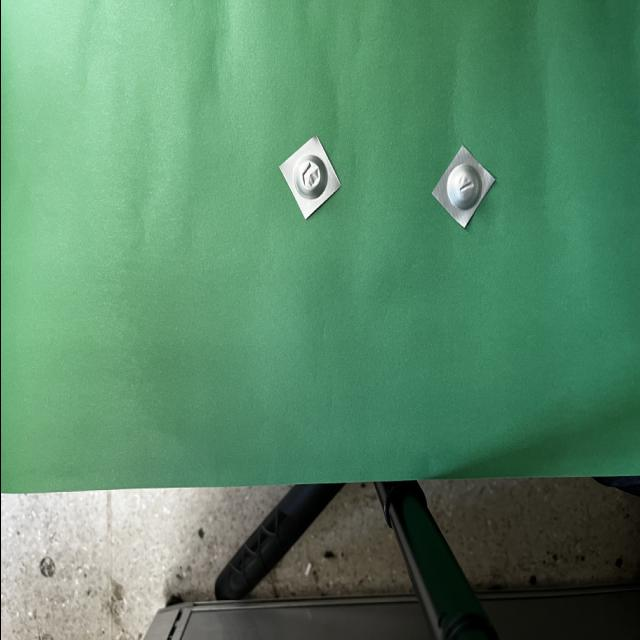Other Objects: (431, 147, 494, 229), (278, 137, 340, 219)
